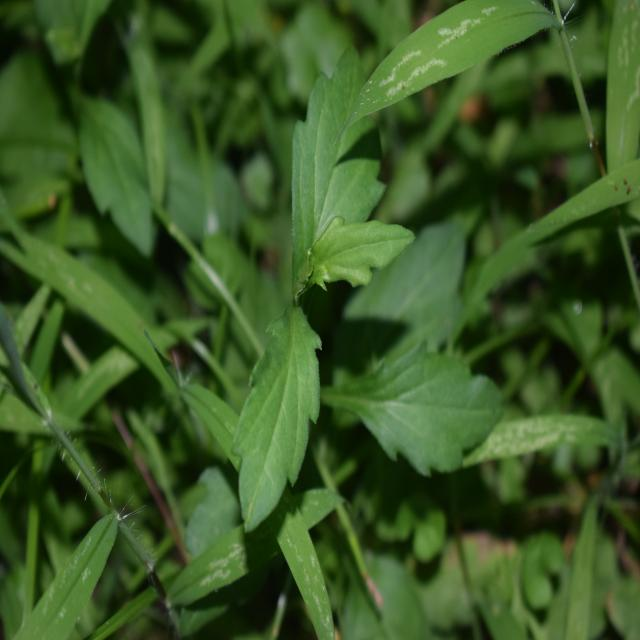Indian aster: (207, 81, 471, 532)
